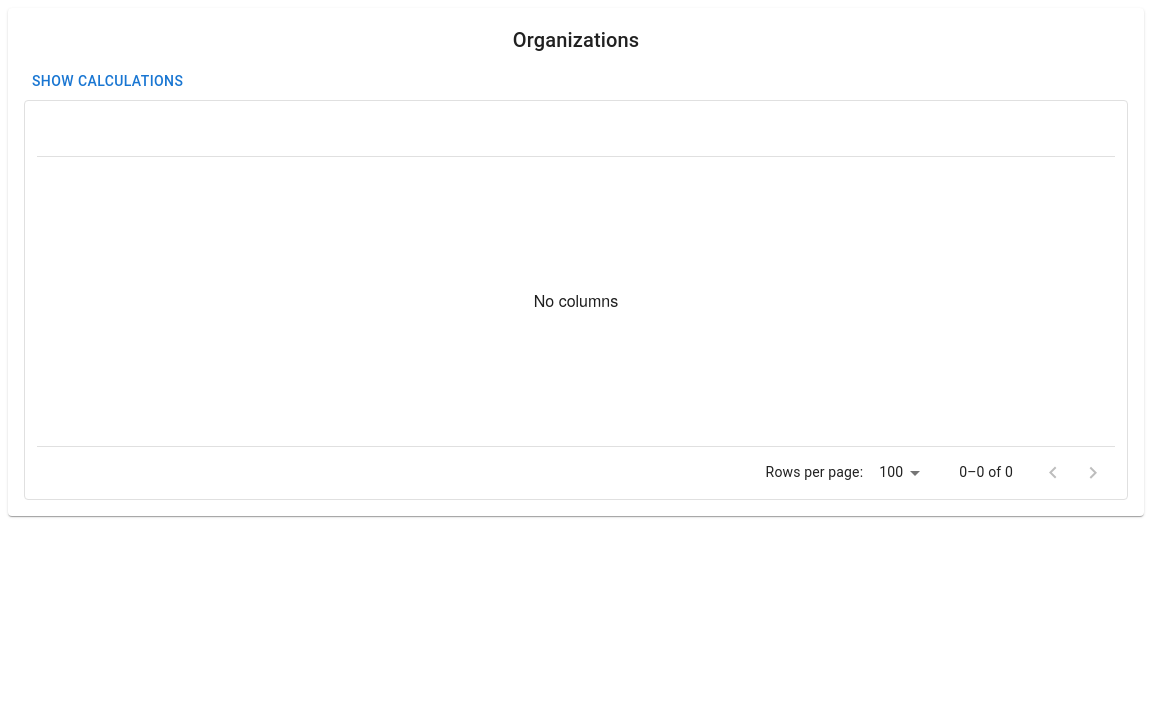
toggles calculations on button click
Click the button "Show Calculations".
click(108, 81)  # box [24, 63, 191, 100]
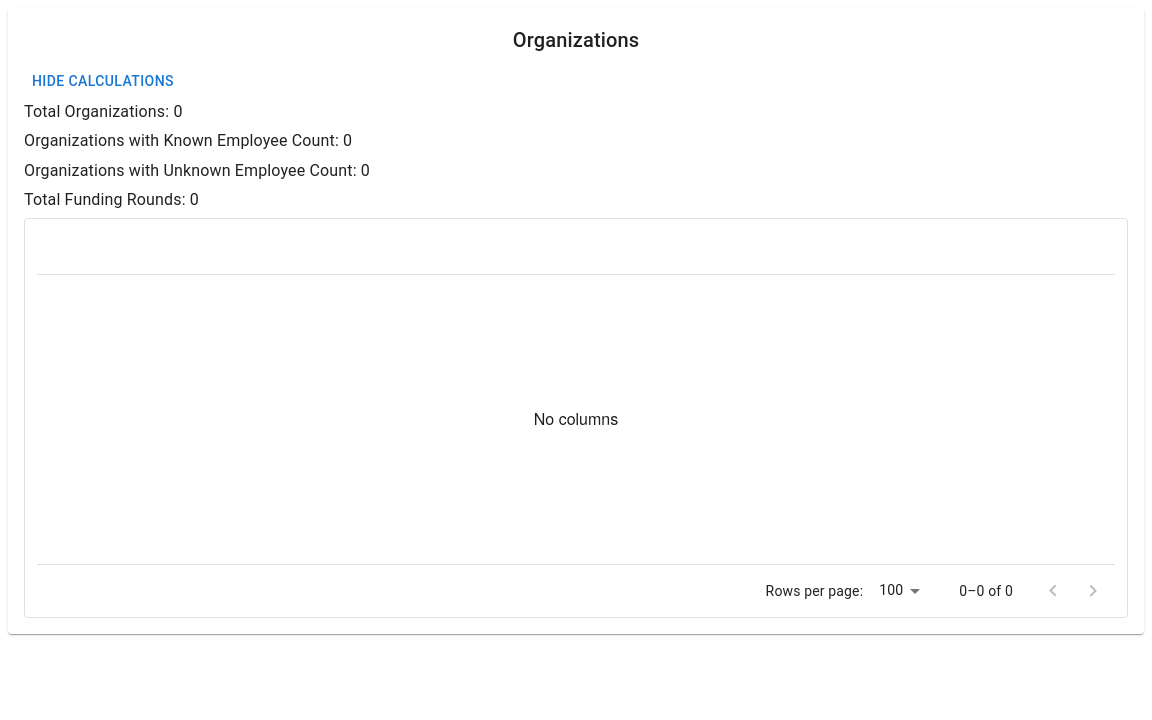
Result: the text "Total Organizations: 0" is shown at [24, 102, 182, 120]
Click the button "Show Calculations".
click(103, 81)  # box [24, 63, 182, 100]
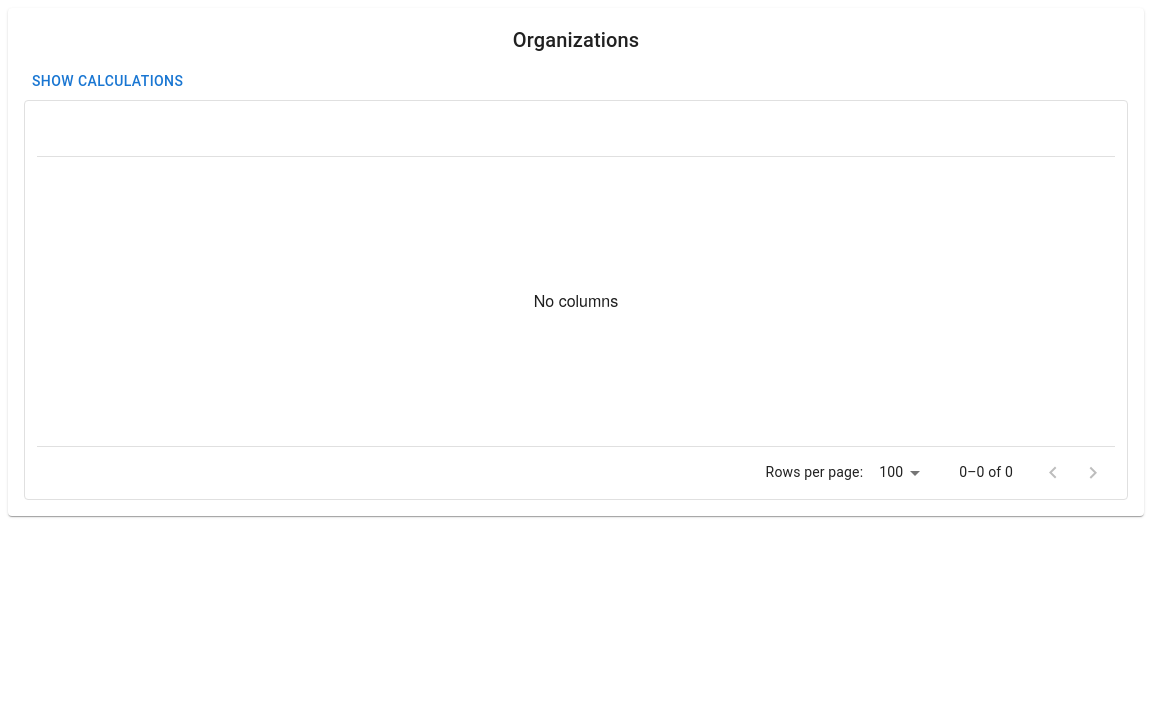
Result: the text "Total Organizations" is gone
